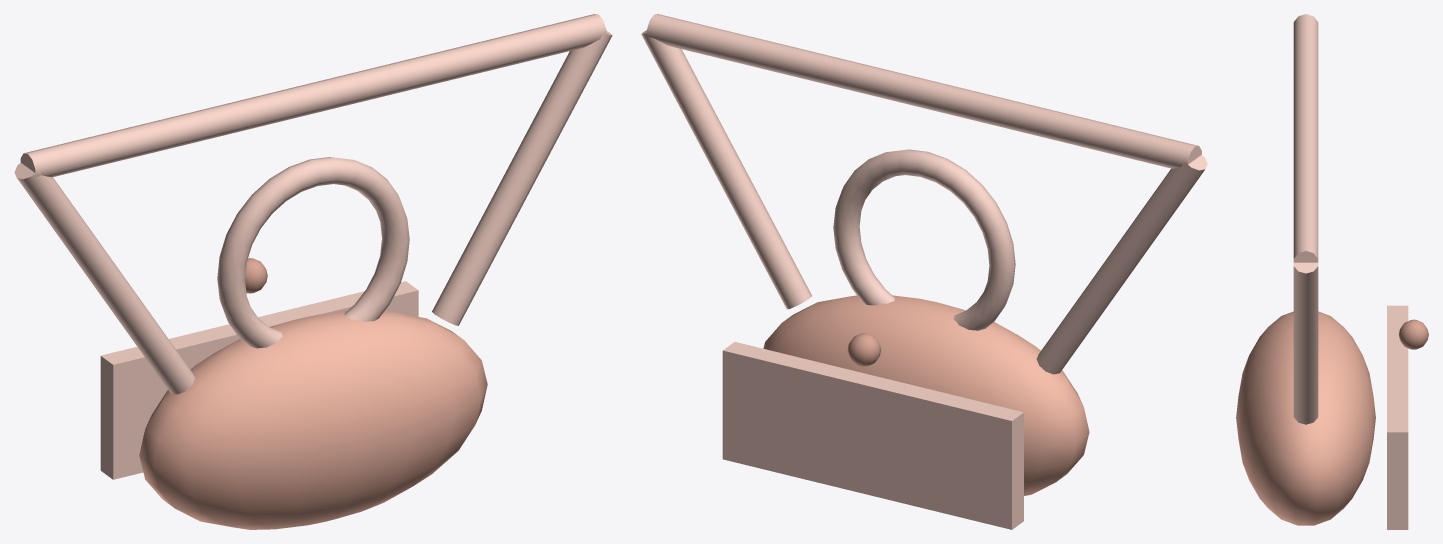
The model's file is VM-DAM-SH31533801.glb.
The picture shows the model from 3 angles, left to right: view 1: azimuth 30°, elevation 25°; view 2: azimuth 150°, elevation 25°; view 3: azimuth 270°, elevation 25°; orthographic projection. The views are drawn at different scales.
Parts seen in each view (by area): view 1: Bolso Bandolera Color Sólido; view 2: Bolso Bandolera Color Sólido; view 3: Bolso Bandolera Color Sólido.
Part boxes in pixels (<box>): Bolso Bandolera Color Sólido: <box>14,14,612,529</box>; Bolso Bandolera Color Sólido: <box>641,14,1207,529</box>; Bolso Bandolera Color Sólido: <box>1236,14,1428,529</box>.
Bounding box in the file's own units: 0.5565 × 0.3883 × 0.1843.
